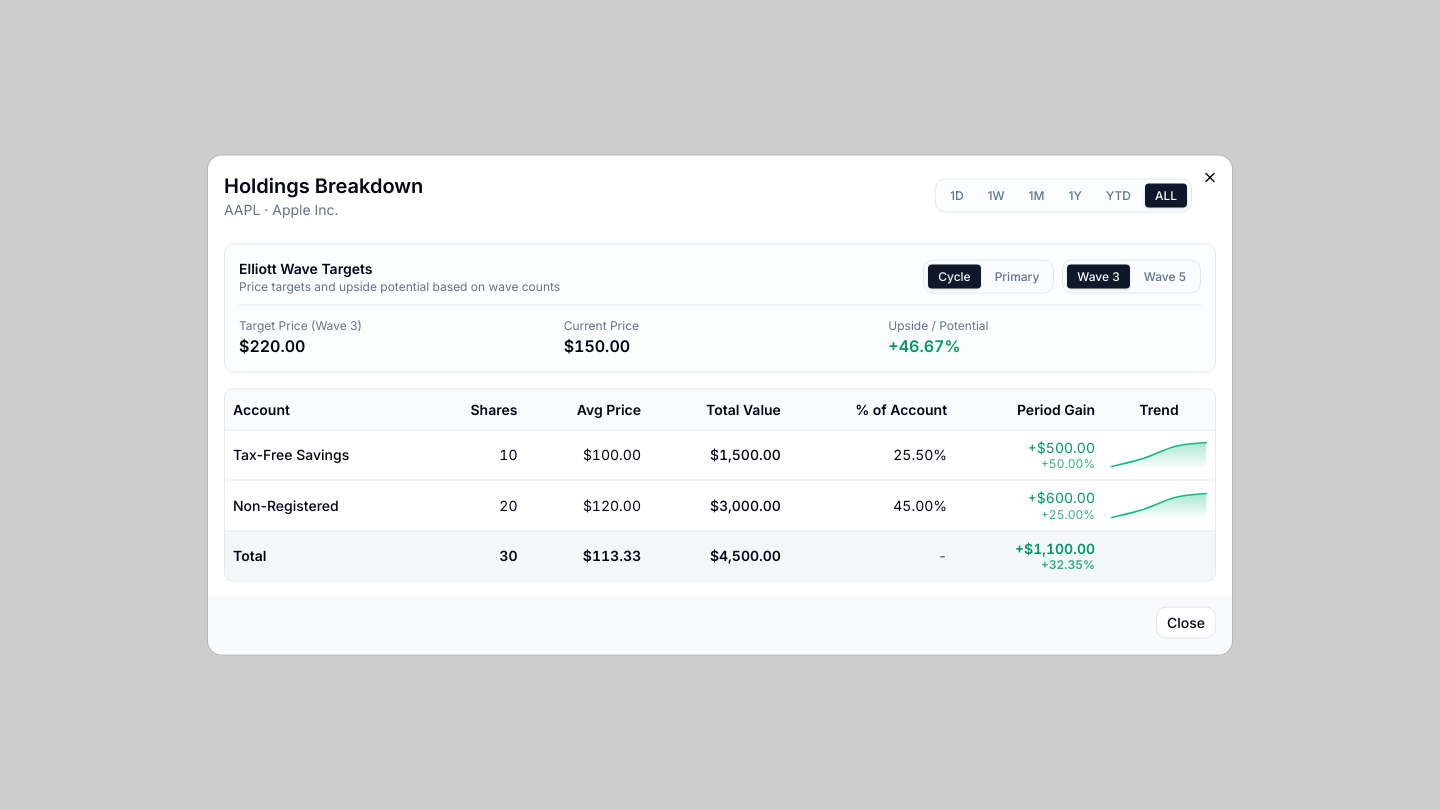
HoldingsModal Component › Elliott Wave Targets panel › updates target price and upside % when switching between Wave 3 and Wave 5
Expected: the text with test id "wave-target-price" reads "$220.00", x1=239 y1=336 x2=306 y2=356
Step 1. Click the button "Wave 5" → (1165, 276), box x1=1134 y1=264 x2=1196 y2=288
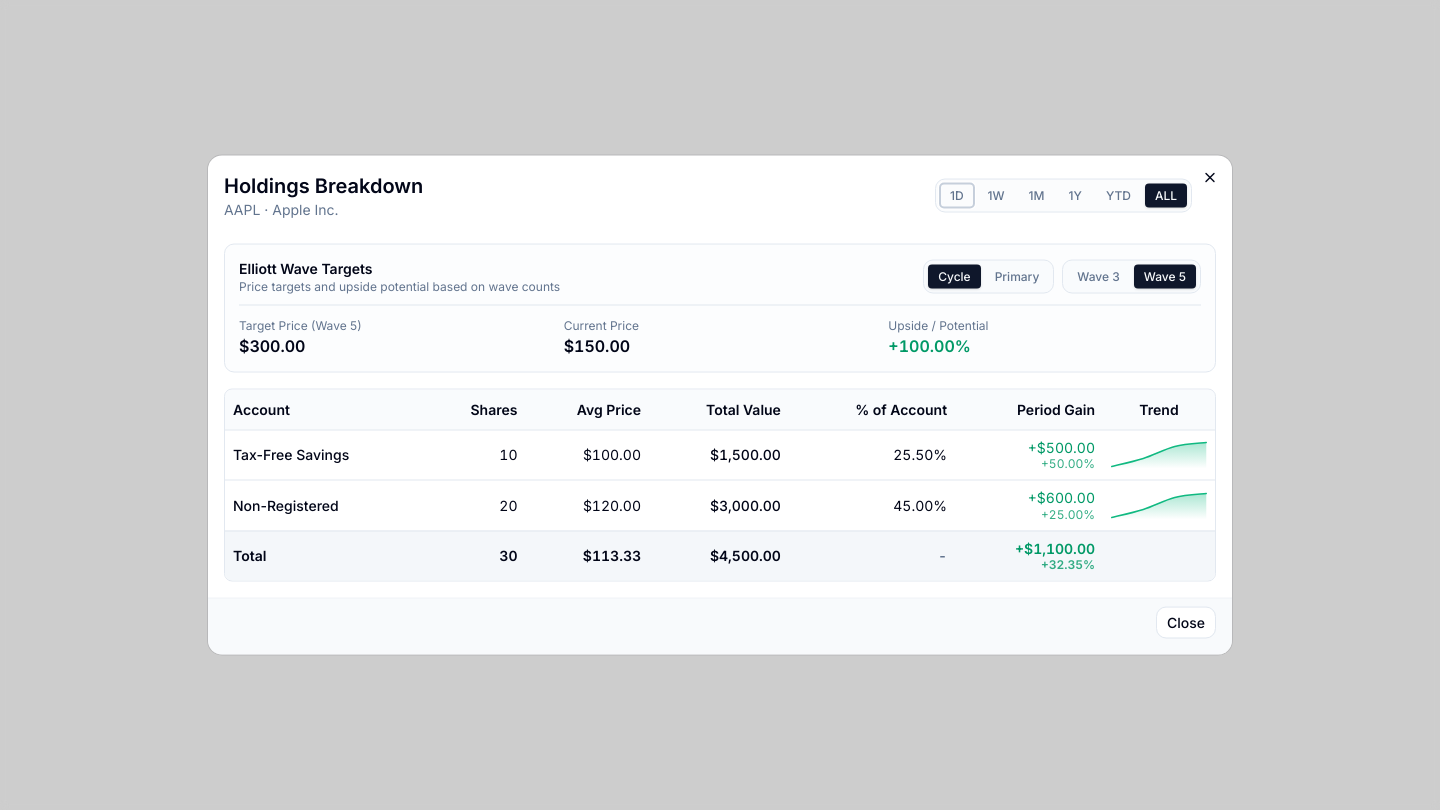
Now the text with test id "wave-target-price" reads "$300.00", box x1=239 y1=336 x2=306 y2=356
Now the element with test id "wave-upside-percent" reads "+100.00%", box x1=888 y1=336 x2=971 y2=356
